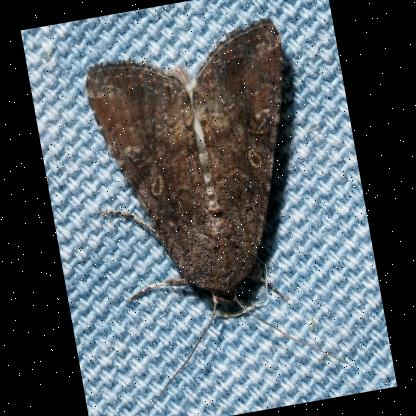Fall Armyworm Moth: (64, 10, 356, 416)
